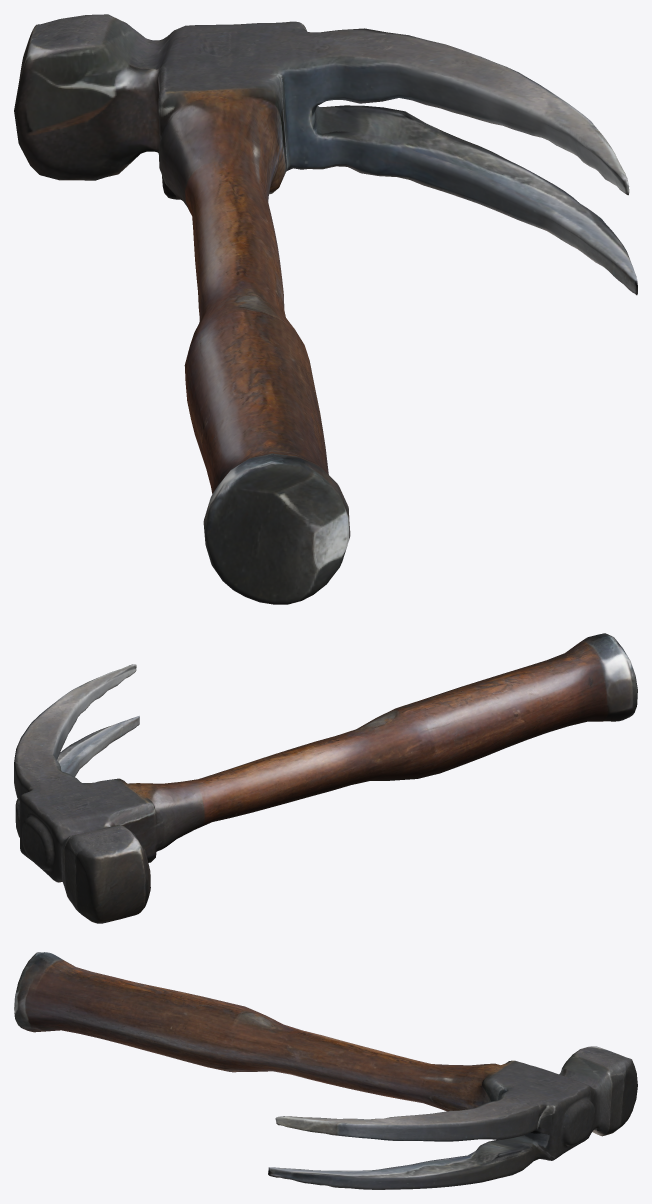
File: hammer_and_chisel_1203054552_refine.fbx
3 renders of one model, top to bottom at view 1: azimuth 30°, elevation 25°; view 2: azimuth 150°, elevation 25°; view 3: azimuth 270°, elevation 25°, orthographic. The views are drawn at different scales.
Visible parts, largest first — view 1: Mesh1_Mesh1.021; view 2: Mesh1_Mesh1.021; view 3: Mesh1_Mesh1.021.
Boxes of the visible parts, x1=… form: Mesh1_Mesh1.021: x1=14, y1=14, x2=637, y2=604; Mesh1_Mesh1.021: x1=14, y1=633, x2=637, y2=923; Mesh1_Mesh1.021: x1=14, y1=952, x2=637, y2=1189.
Size of the model in its own units: 134 by 31.27 by 200.
1 material, 1 textured.
